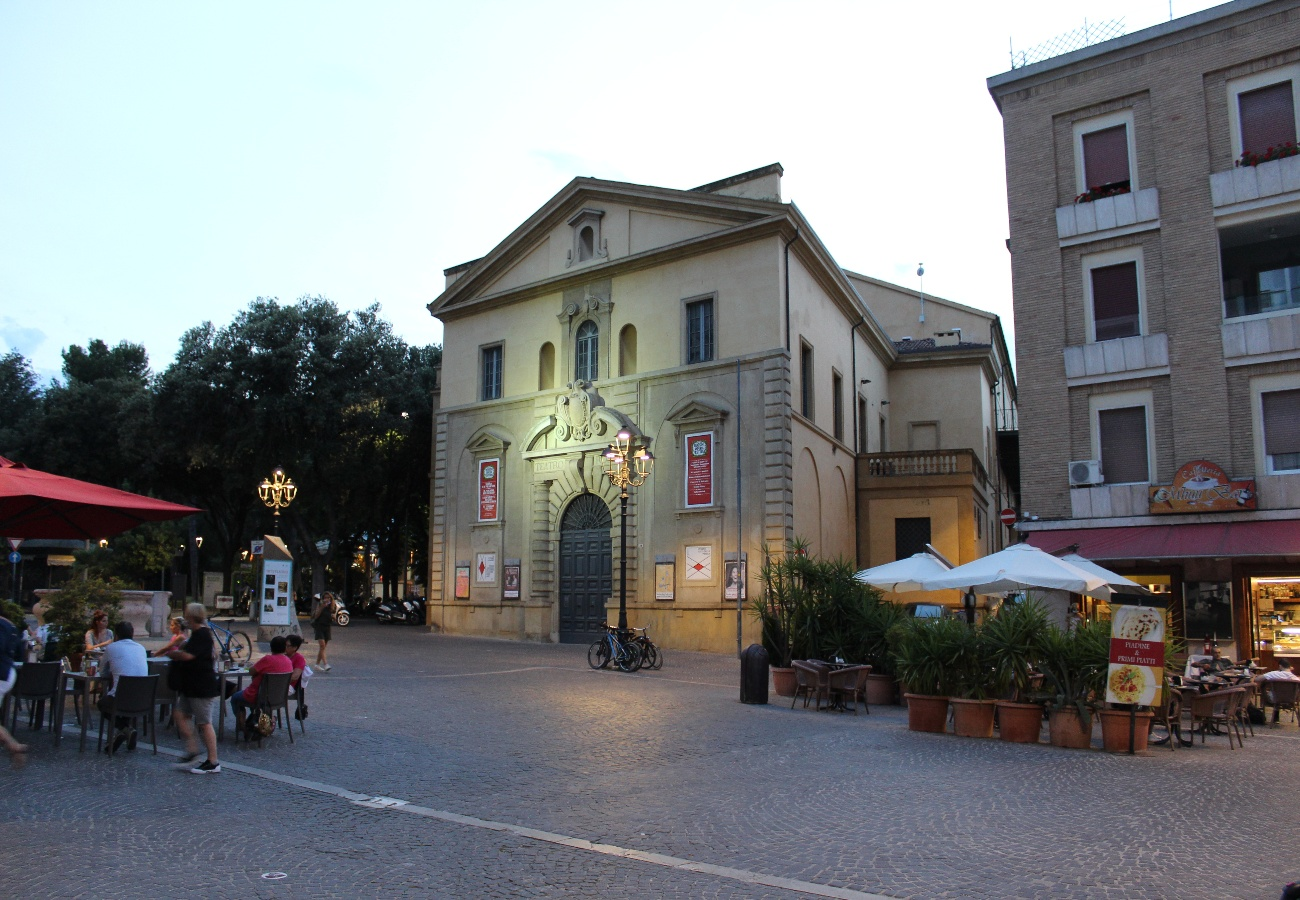Teatro Rossini: (431, 176, 780, 650)
